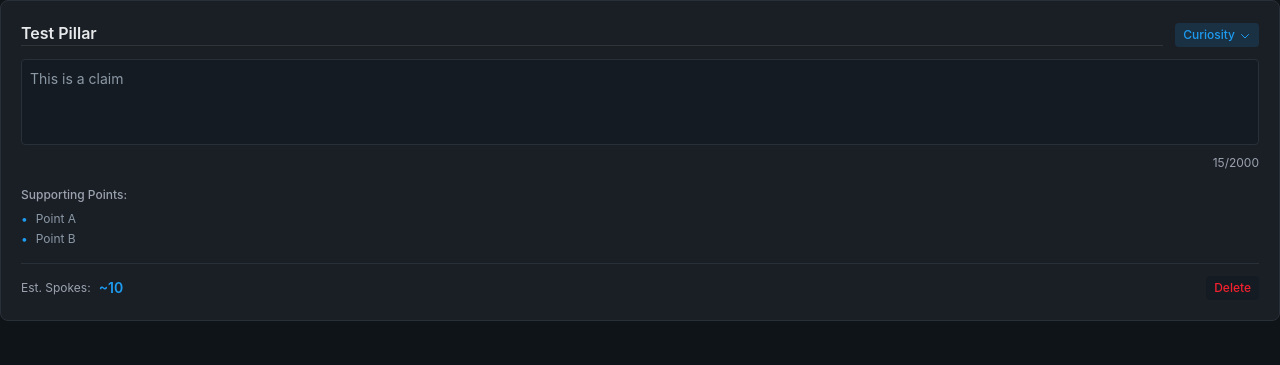
EditablePillarCard › updates angle via dropdown
Note: Open dropdown
Click the button with test id "angle-dropdown-trigger".
click(1217, 35)  # box x1=1175 y1=23 x2=1259 y2=47
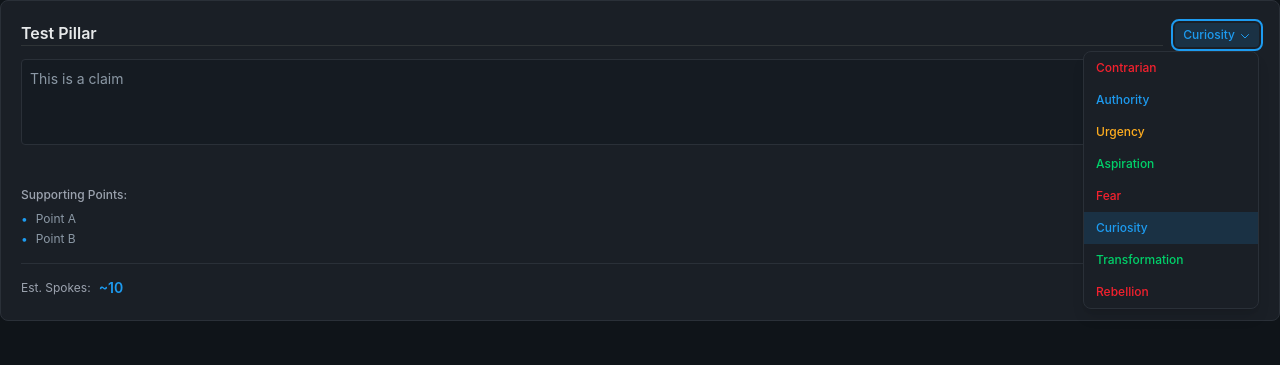
Check: the element with test id "angle-dropdown-menu" is shown, box x1=1083 y1=51 x2=1259 y2=309
Note: Select new angle
Click the button "Authority".
click(1171, 100)  # box x1=1084 y1=84 x2=1258 y2=116
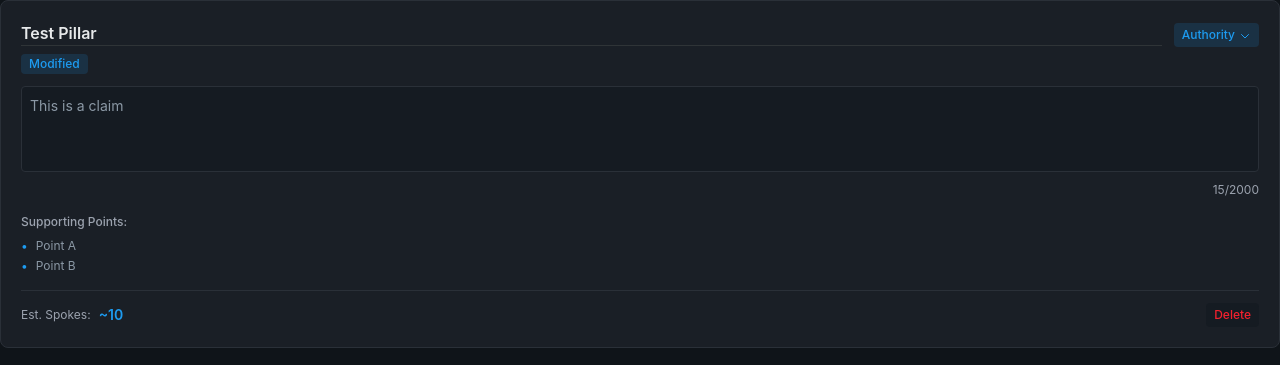
Check: the button with test id "angle-dropdown-trigger" reads "Authority", box x1=1174 y1=23 x2=1259 y2=47
